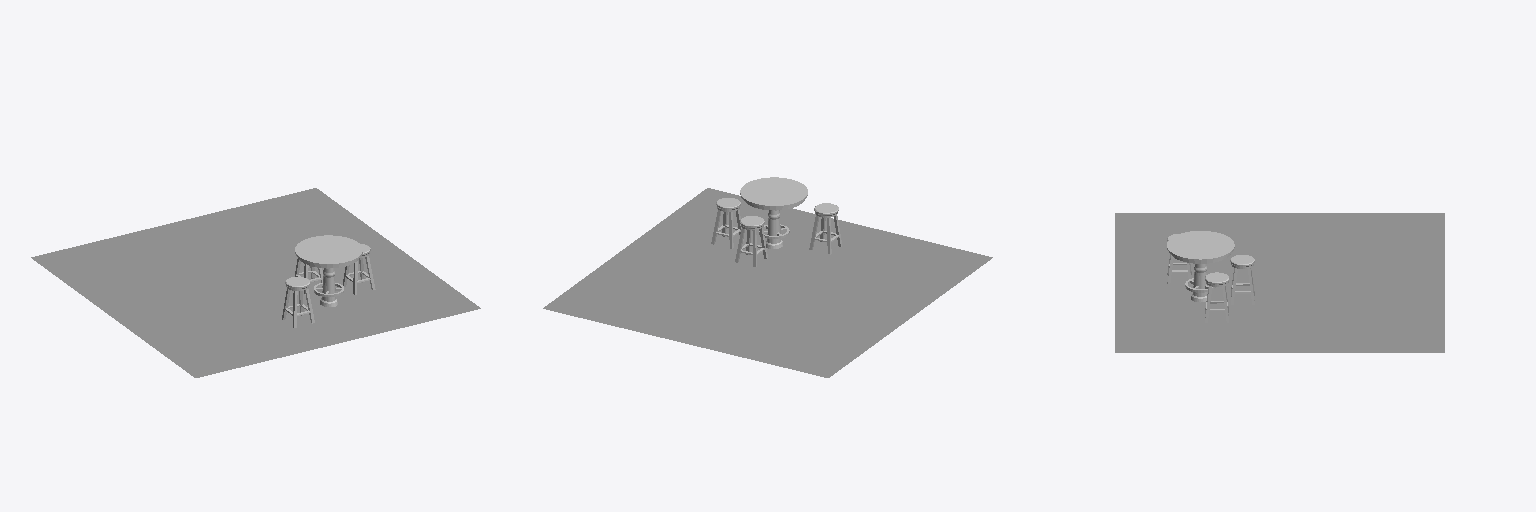
File: tableRound.obj
3 renders of one model, left to right at view 1: azimuth 30°, elevation 25°; view 2: azimuth 150°, elevation 25°; view 3: azimuth 270°, elevation 25°, orthographic.
Visible parts, largest first — view 1: Plane, Cube, Cube.001_Cube.002; view 2: Plane, Cube, Cube.001_Cube.002, Cube.002_Cube.003; view 3: Plane, Cube, Cube.002_Cube.003.
Boxes of the visible parts, x1,y1,x2,y2 form: Plane: [31, 188, 480, 377]; Cube: [295, 235, 375, 306]; Cube.001_Cube.002: [282, 277, 314, 327]; Plane: [543, 188, 992, 377]; Cube: [711, 177, 807, 248]; Cube.001_Cube.002: [809, 203, 841, 254]; Cube.002_Cube.003: [735, 216, 767, 266]; Plane: [1115, 213, 1444, 352]; Cube: [1167, 231, 1234, 322]; Cube.002_Cube.003: [1230, 255, 1254, 304].
Bounding box in the file's own units: 21.47 × 3.89 × 21.47.